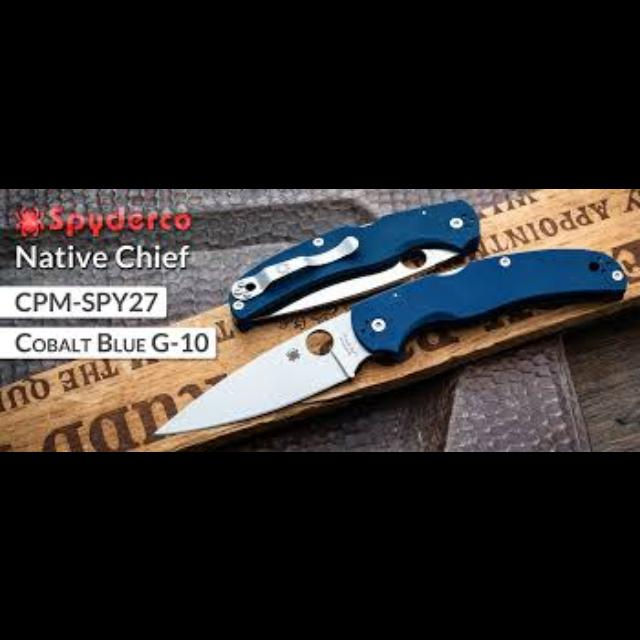Knife: (150, 245, 628, 435)
